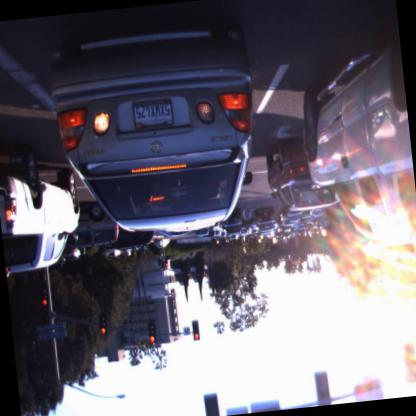trafficlight: (97, 310, 108, 336), (190, 318, 201, 342), (38, 284, 50, 306), (147, 321, 156, 344)
